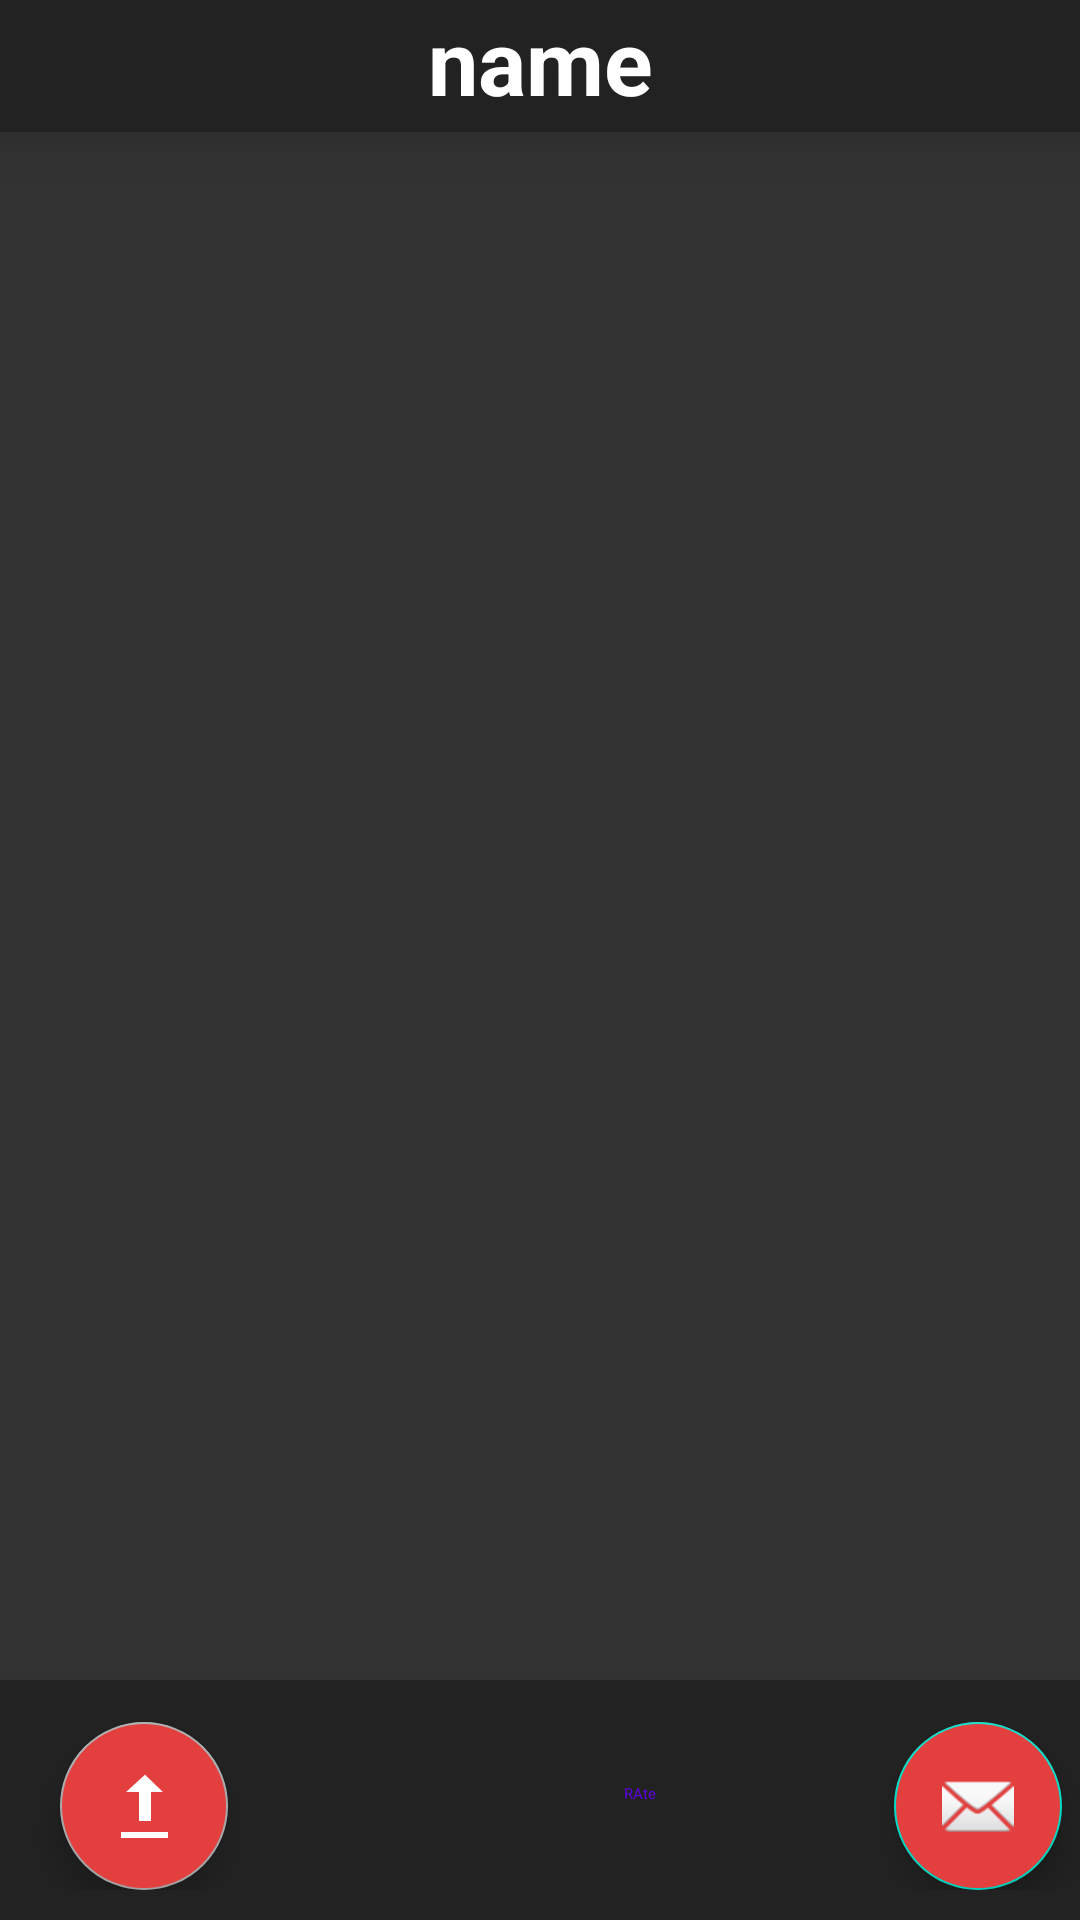

Icons on this 1080×1920 Android screen, each with its box as (x1, y1, x2, y2):
email: (894, 1722, 1062, 1890)
upload: (60, 1722, 228, 1890)
